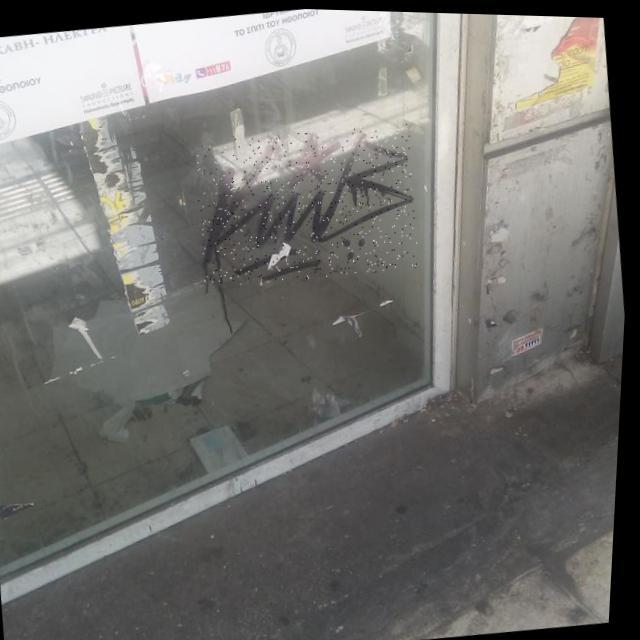-: (190, 115, 428, 291)
